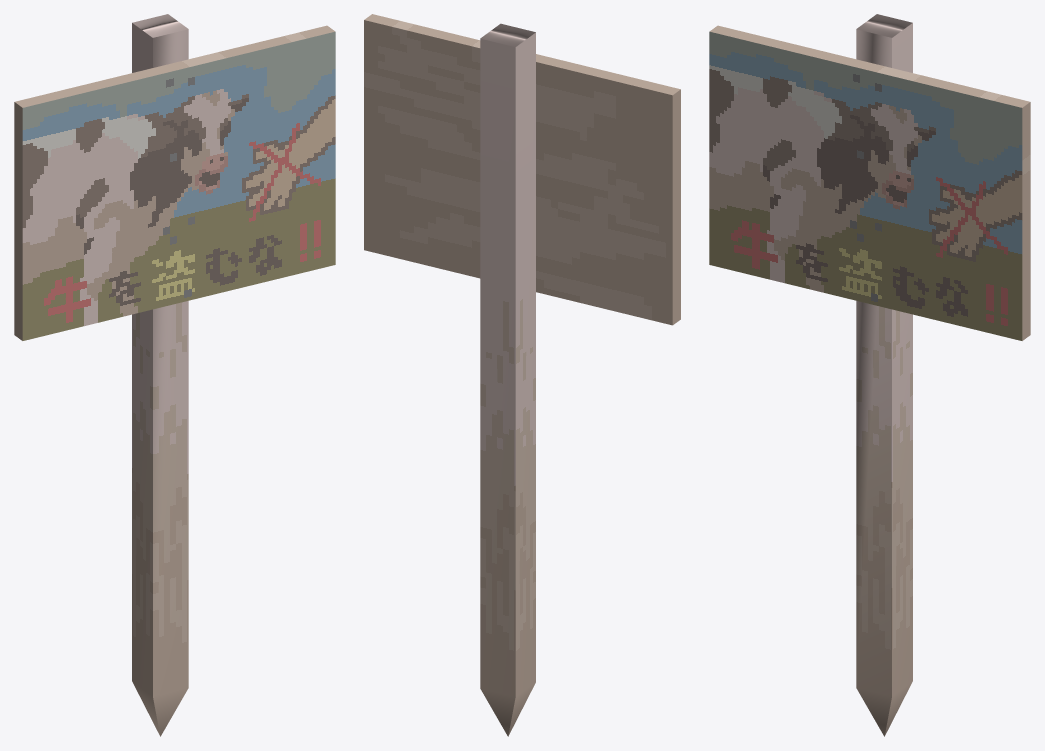
Rendered from 054e_No_Stealing_Cows.glb.
The picture shows the model from 3 angles, left to right: view 1: azimuth 30°, elevation 25°; view 2: azimuth 150°, elevation 25°; view 3: azimuth 330°, elevation 25°; orthographic projection.
Parts seen in each view (by area): view 1: part_0; view 2: part_0; view 3: part_0.
Boxes of the visible parts, x1,y1,x2,y2 form: part_0: (14, 14, 335, 736); part_0: (364, 14, 680, 736); part_0: (709, 14, 1030, 736).
Bounding box in the file's own units: 0.87 × 1.89 × 0.14.
Materials: 1 (1 with a texture image).
